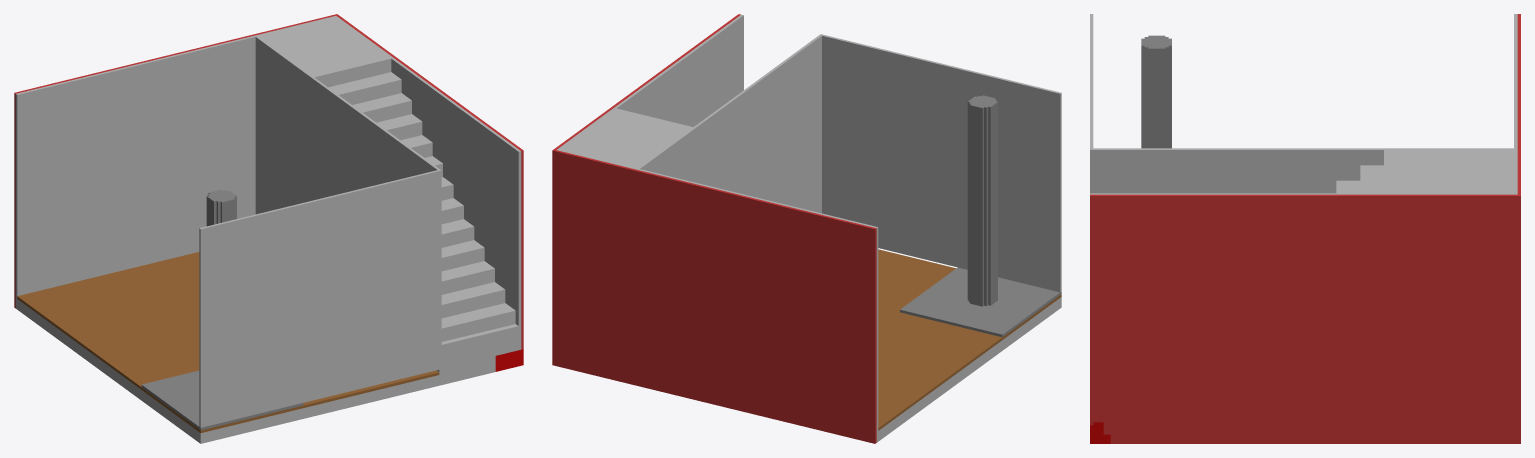
The model's file is 4x2 first (1)-6.obj.
3 renders of one model, left to right at view 1: azimuth 30°, elevation 25°; view 2: azimuth 150°, elevation 25°; view 3: azimuth 270°, elevation 25°, orthographic. The views are drawn at different scales.
Parts seen in each view (by area): view 1: 4x2 first (1)-6; view 2: 4x2 first (1)-6; view 3: 4x2 first (1)-6.
Boxes of the visible parts, x1=… form: 4x2 first (1)-6: x1=14, y1=14, x2=523, y2=443; 4x2 first (1)-6: x1=552, y1=14, x2=1061, y2=443; 4x2 first (1)-6: x1=1090, y1=14, x2=1520, y2=443.
Size of the model in its own units: 126 by 80 by 126.
Materials: 1 (1 with a texture image).
